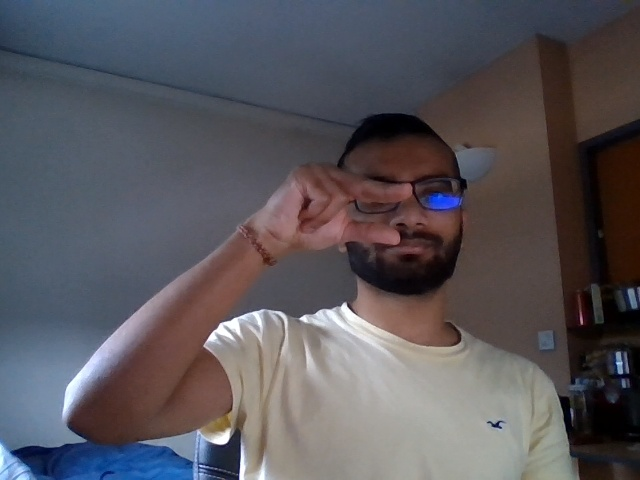No: (238, 149, 419, 271)
